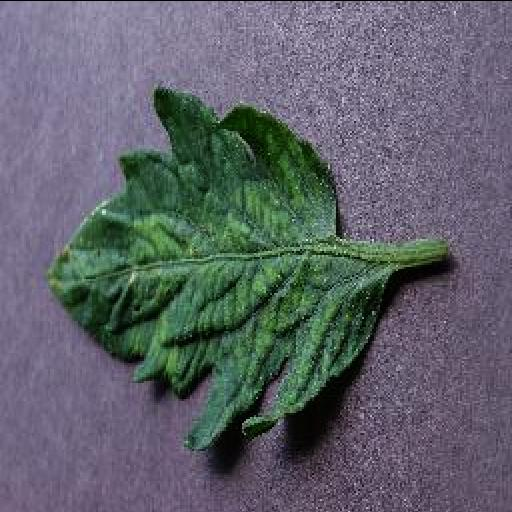Mosaic Virus: (48, 84, 386, 452)
